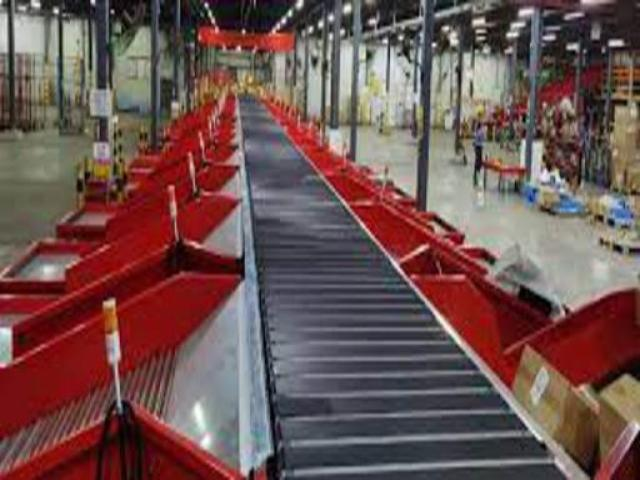conveyor: (212, 85, 585, 480)
